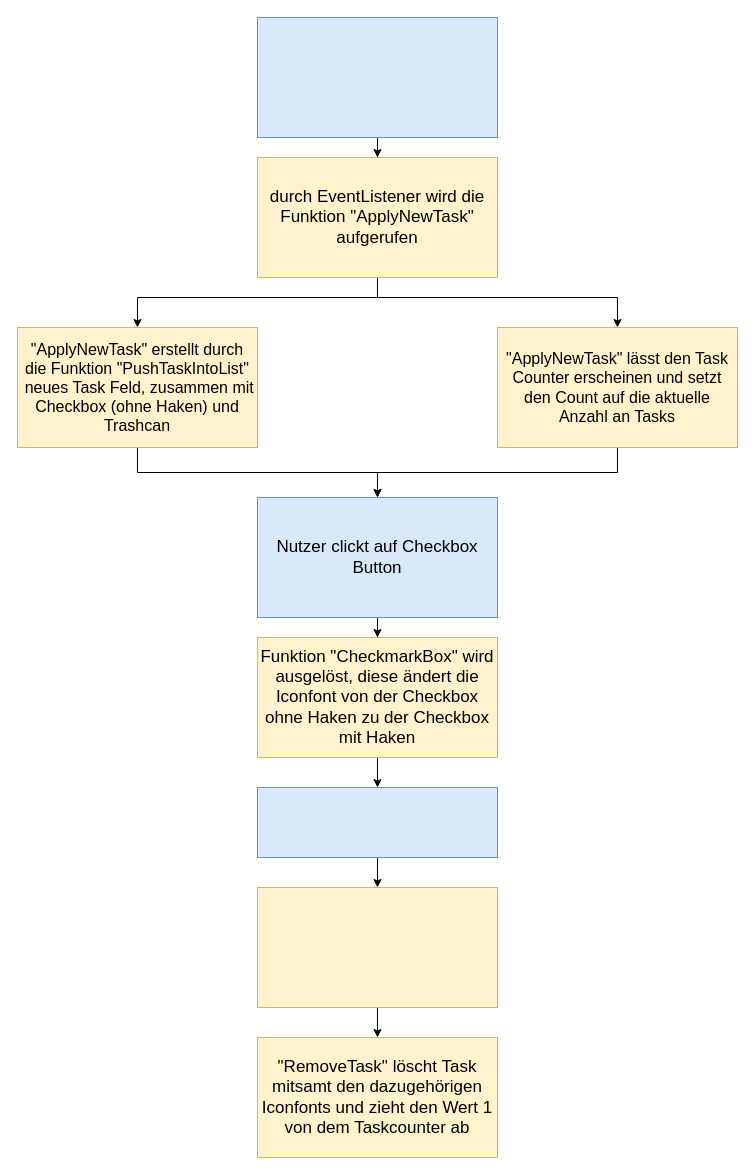
This 755x1175 diagram has some shape labels left out. The shapes that lost their labels are listed below. From the top down, each one's centre as x and y in pixels, then its label:
pixel 377 77: Nutzer gibt sein ToDo ein und clickt auf "AddTask"
pixel 377 822: Nutzer clickt auf Trashcan Button
pixel 377 947: onclick auf Trashcan Iconfont löst die Funktion "RemoveTask" aus
